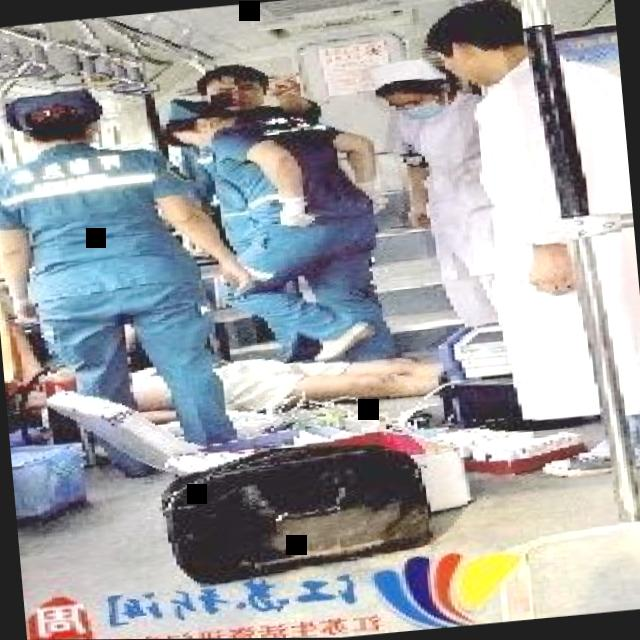Fall-Detected: (59, 321, 518, 447)
